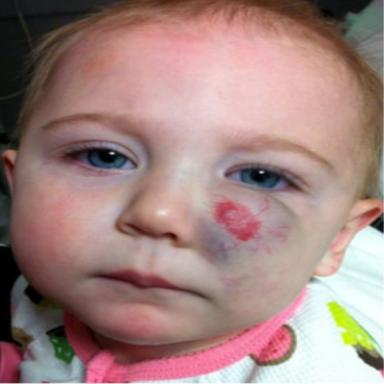Hemangiome: (214, 200, 260, 240)
